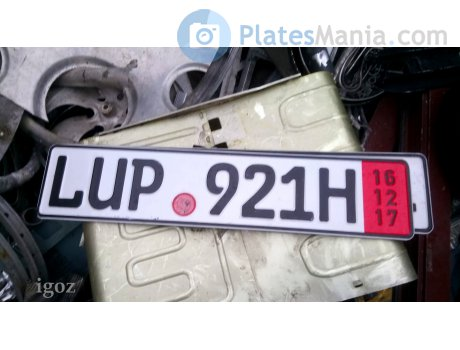License Plates: (54, 152, 359, 223)
